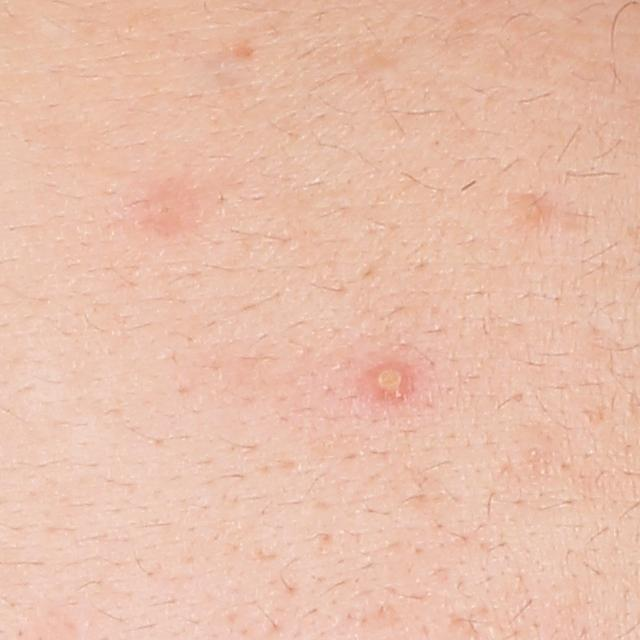pustule: (364, 358, 410, 401)
